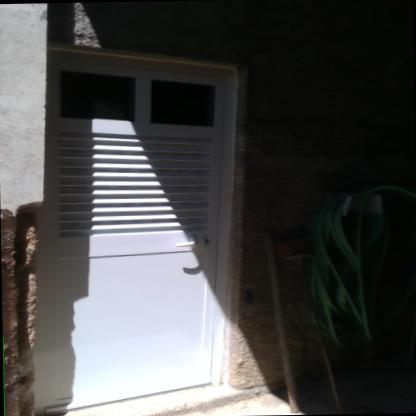closed: (13, 44, 262, 415)
